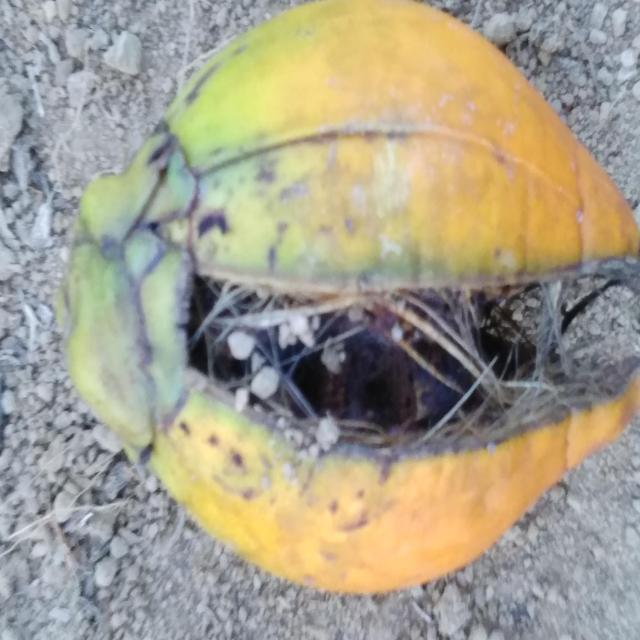damaged: (56, 0, 640, 593)
